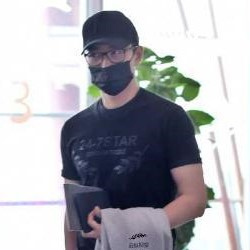mask: (83, 58, 137, 97)
